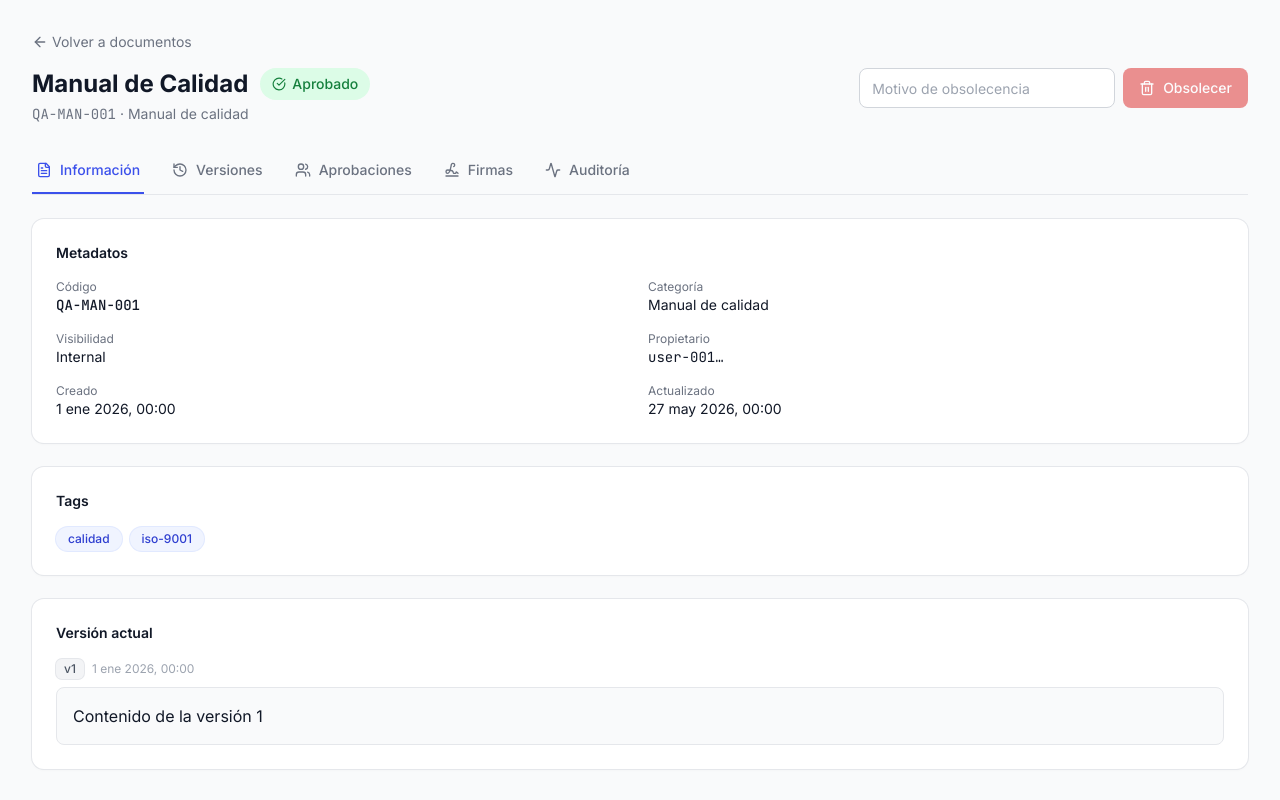
Test: DocumentDetailPage › tab de auditoría muestra eventos
Expected: the heading "Manual de Calidad" is shown, [32, 68, 248, 100]
Click the tab "Auditoría" at (587, 171), box [541, 148, 634, 194]
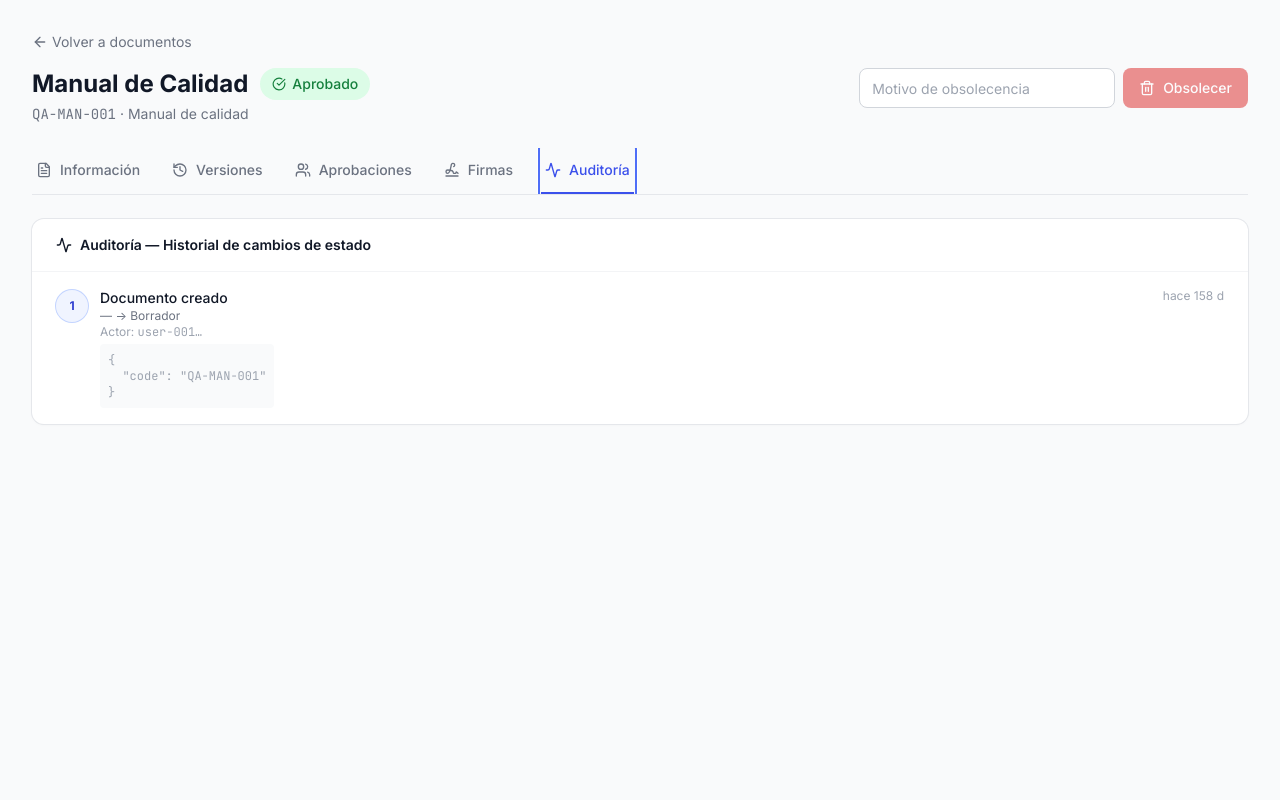
Expected: the text "Documento creado" is shown, [100, 289, 228, 306]
